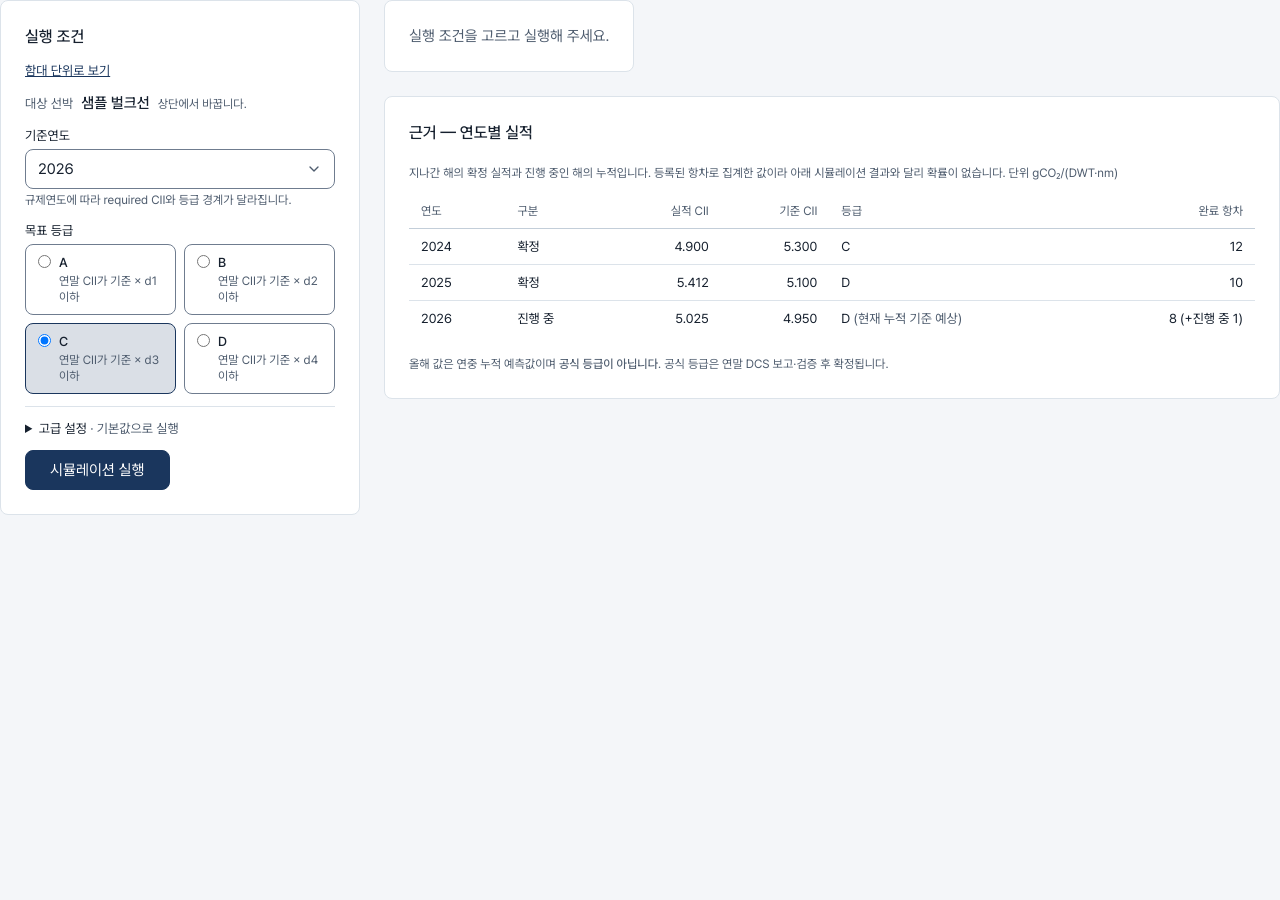
Scenario: ⑵ 지나간 해에는 확률이 없다 — `PRD §12.4.1` › 실적 블록 어디에도 백분율 · 목표 달성 확률 · 분포 요약이 없고, 결과 블록에는 있다
Click the button "시뮬레이션 실행" at (97, 470), box [25,450,170,490]
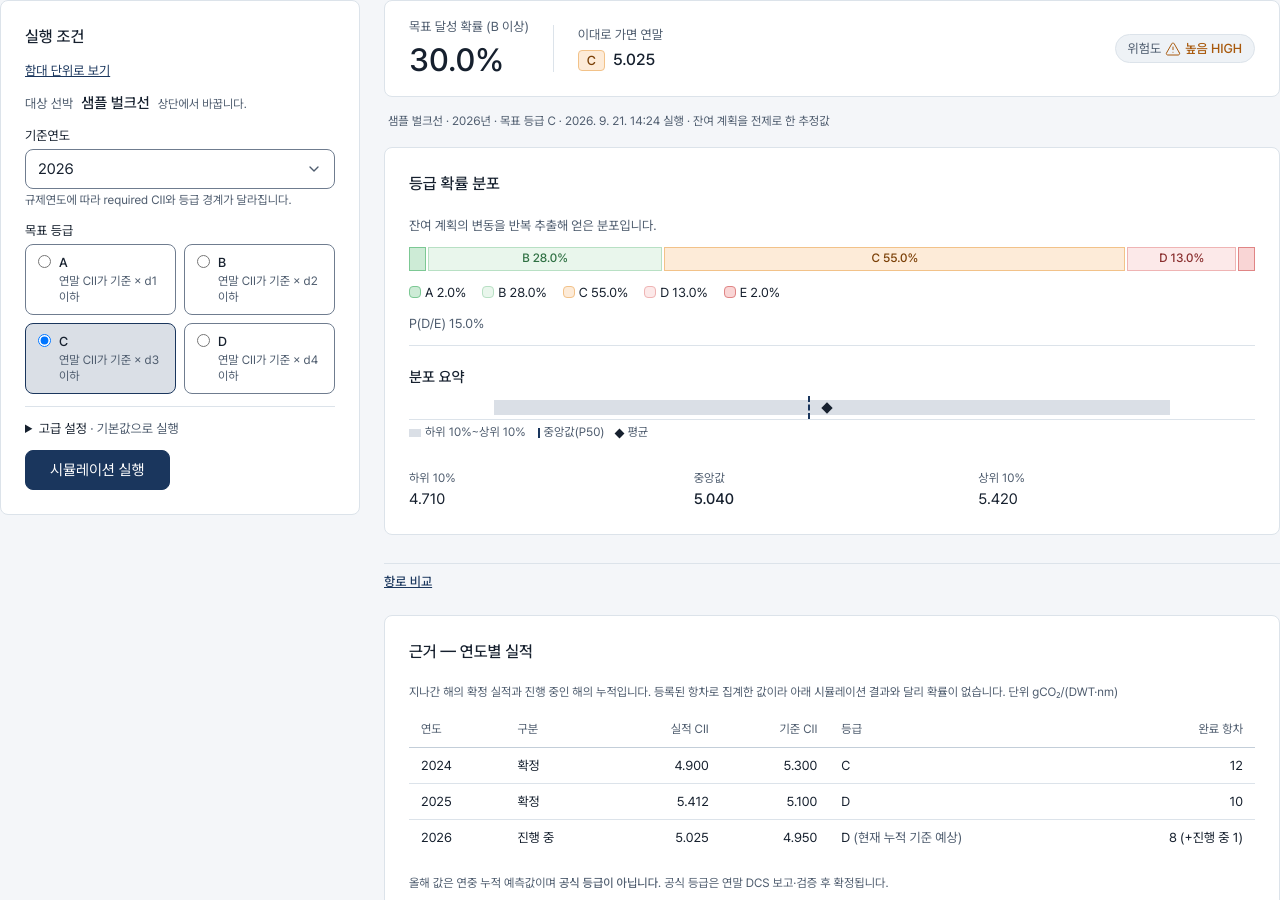
Expected: the element with test id "annual-sim-actuals" does not show "%"
Result: the element named "결론" shows "%" at [384,0,1279,97]
